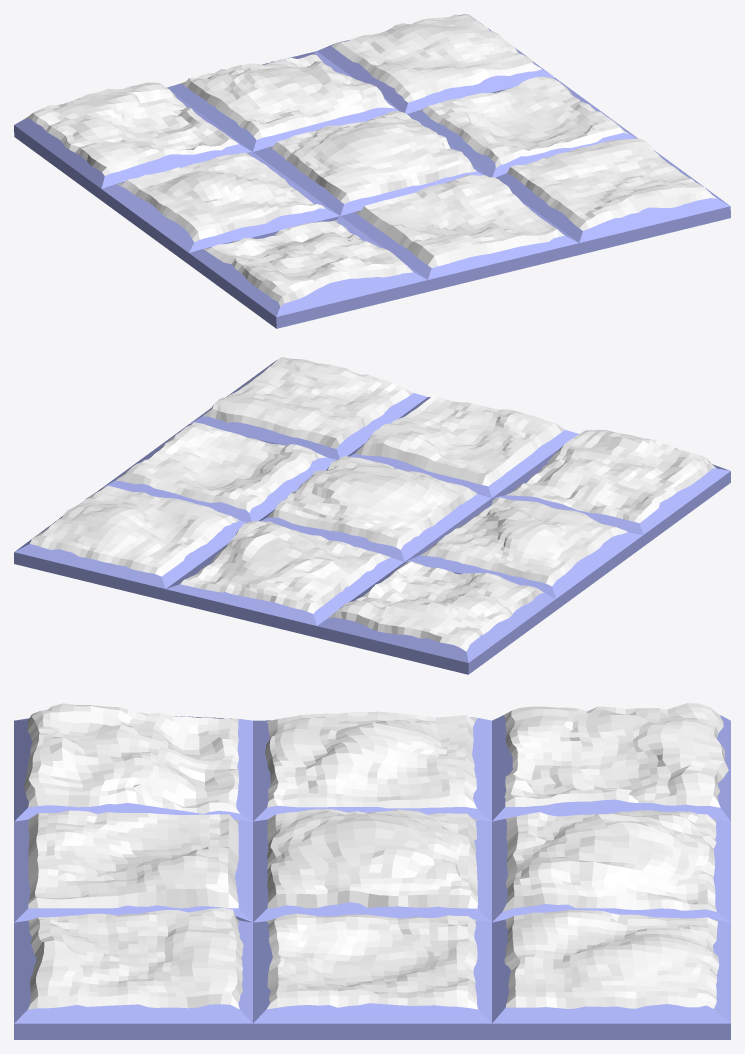
The model's file is CubeLava.fbx.
3 views of the same model, one above another, from view 1: azimuth 30°, elevation 25°; view 2: azimuth 150°, elevation 25°; view 3: azimuth 270°, elevation 25° (orthographic). The views are drawn at different scales.
Parts seen in each view (by area): view 1: Face; view 2: Face; view 3: Face.
Boxes of the visible parts, x1,y1,x2,y2 form: Face: (14, 14, 730, 328); Face: (14, 357, 730, 674); Face: (14, 703, 730, 1039).
Size of the model in its own units: 1814 by 152 by 1814.
